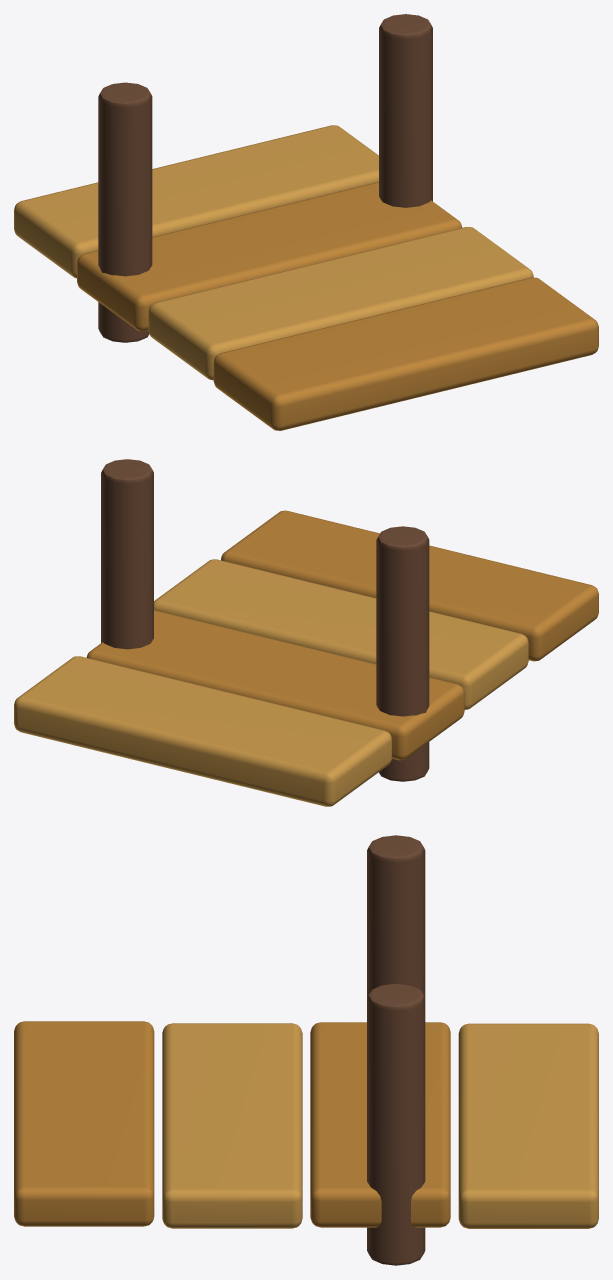
The model's file is prop_dock_ferry.glb.
The picture shows the model from 3 angles, top to bottom: view 1: azimuth 30°, elevation 25°; view 2: azimuth 150°, elevation 25°; view 3: azimuth 270°, elevation 25°; orthographic projection. The views are drawn at different scales.
Parts seen in each view (by area): view 1: fdock_plank0, fdock_plank1, fdock_plank2, fdock_plank3, fdock_postFalse, fdock_postTrue; view 2: fdock_plank3, fdock_plank0, fdock_plank1, fdock_plank2, fdock_postFalse, fdock_postTrue; view 3: fdock_plank1, fdock_plank3, fdock_plank0, fdock_plank2, fdock_postTrue, fdock_postFalse.
Part boxes in pixels (<box>): fdock_plank0: <box>213,277,598,430</box>; fdock_plank1: <box>148,227,533,380</box>; fdock_plank2: <box>77,182,462,331</box>; fdock_plank3: <box>14,125,378,278</box>; fdock_postFalse: <box>98,82,152,342</box>; fdock_postTrue: <box>379,14,432,207</box>; fdock_plank3: <box>14,656,391,806</box>; fdock_plank0: <box>221,510,598,661</box>; fdock_plank1: <box>154,559,528,709</box>; fdock_plank2: <box>86,610,464,760</box>; fdock_postFalse: <box>376,526,429,781</box>; fdock_postTrue: <box>101,459,153,649</box>; fdock_plank1: <box>162,1023,302,1228</box>; fdock_plank3: <box>458,1023,598,1228</box>; fdock_plank0: <box>14,1021,154,1226</box>; fdock_plank2: <box>310,1022,450,1227</box>; fdock_postTrue: <box>367,983,425,1265</box>; fdock_postFalse: <box>367,835,425,997</box>.
Size of the model in its own units: 1.07 by 0.74 by 1.5.
